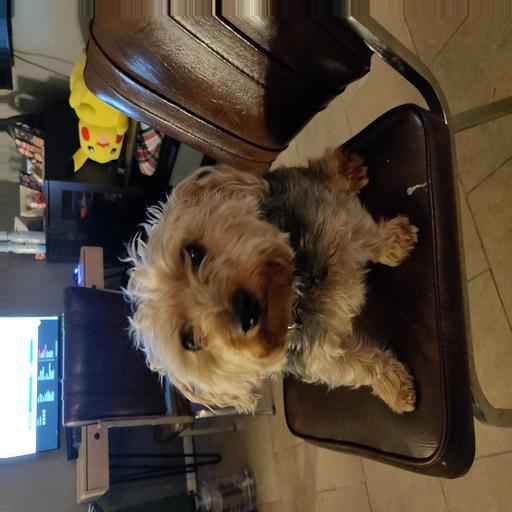dog: (120, 176, 359, 415)
